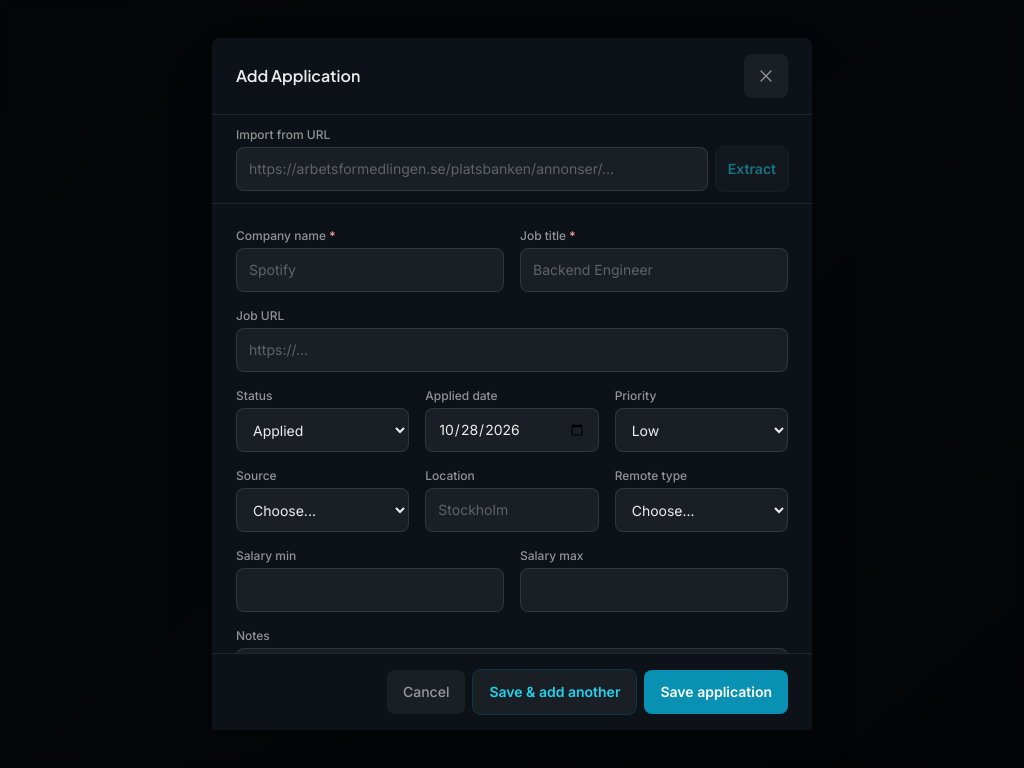
Test: AddApplicationModal — import from URL › warns right after extraction when the job URL is already tracked
The image size is (1024, 768).
Type "https://arbetsformedlingen.se/platsbanken/annonser/29403394" into the field labelled "Import from URL" at (472, 169), box [236,147,708,191]
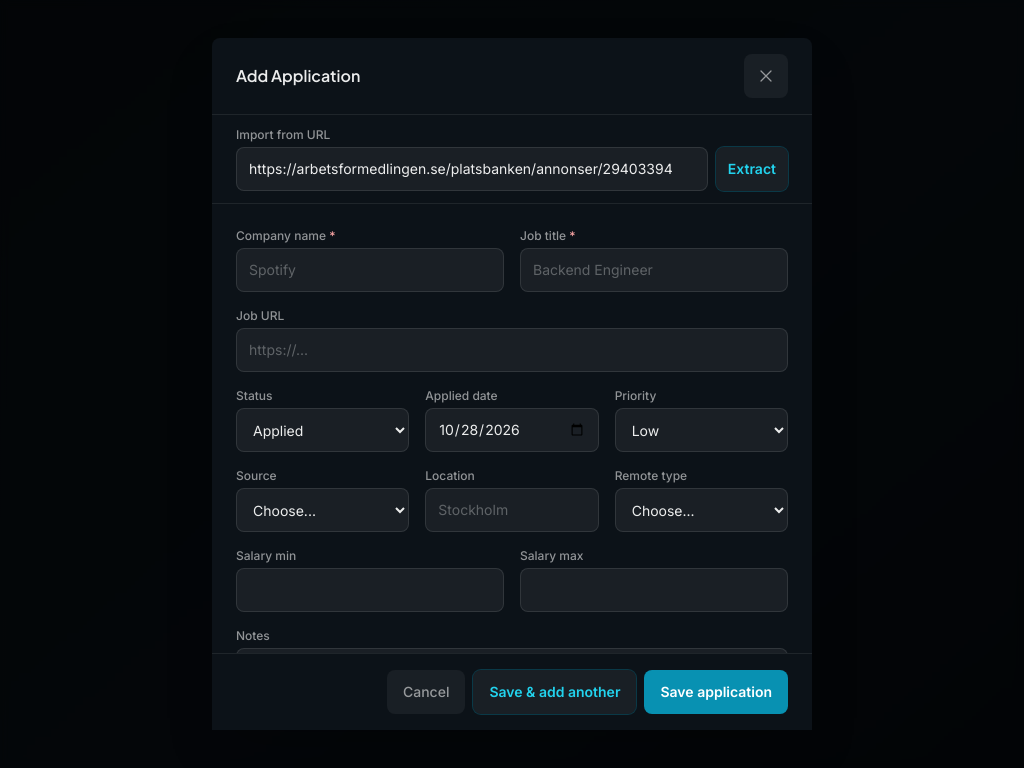
Click the button "Extract" at (752, 169), box [716,147,788,191]
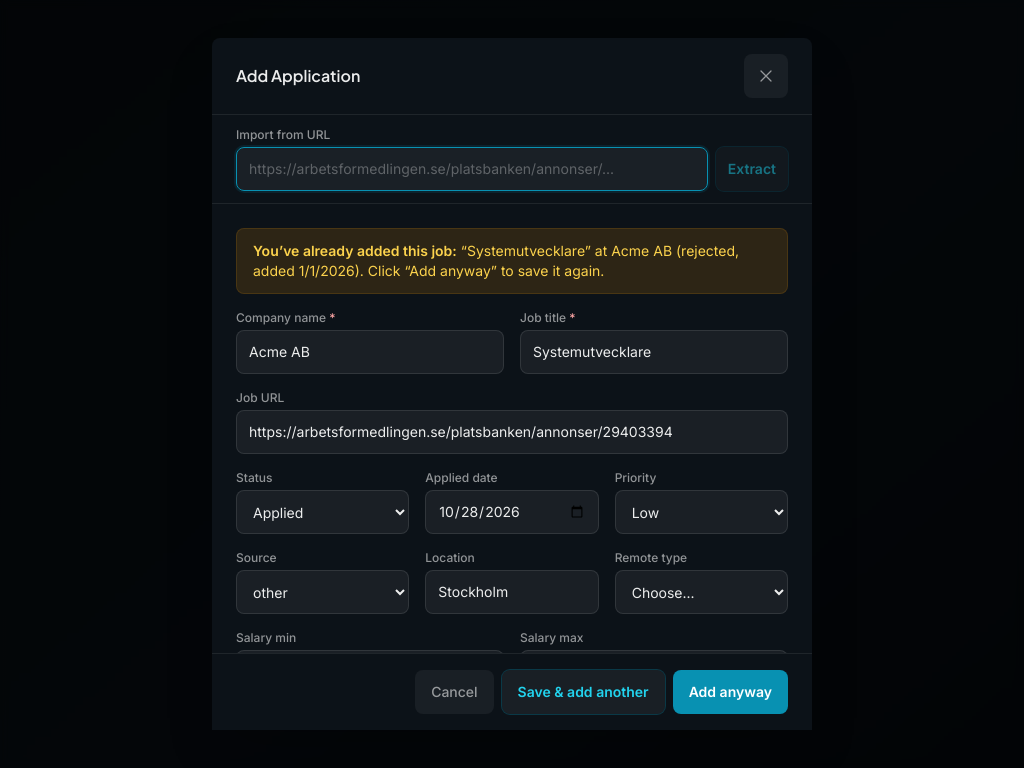
expect the message shows "already added this job": met, box [253,242,457,259]
expect the message shows "Systemutvecklare": met, box [467,242,585,259]
expect the button "Add anyway" is shown: met, box [673,670,788,714]
